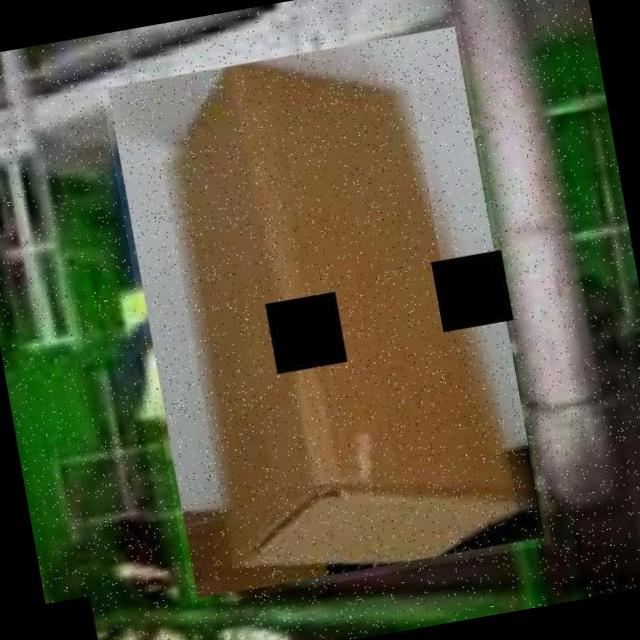box: (98, 16, 551, 607)
